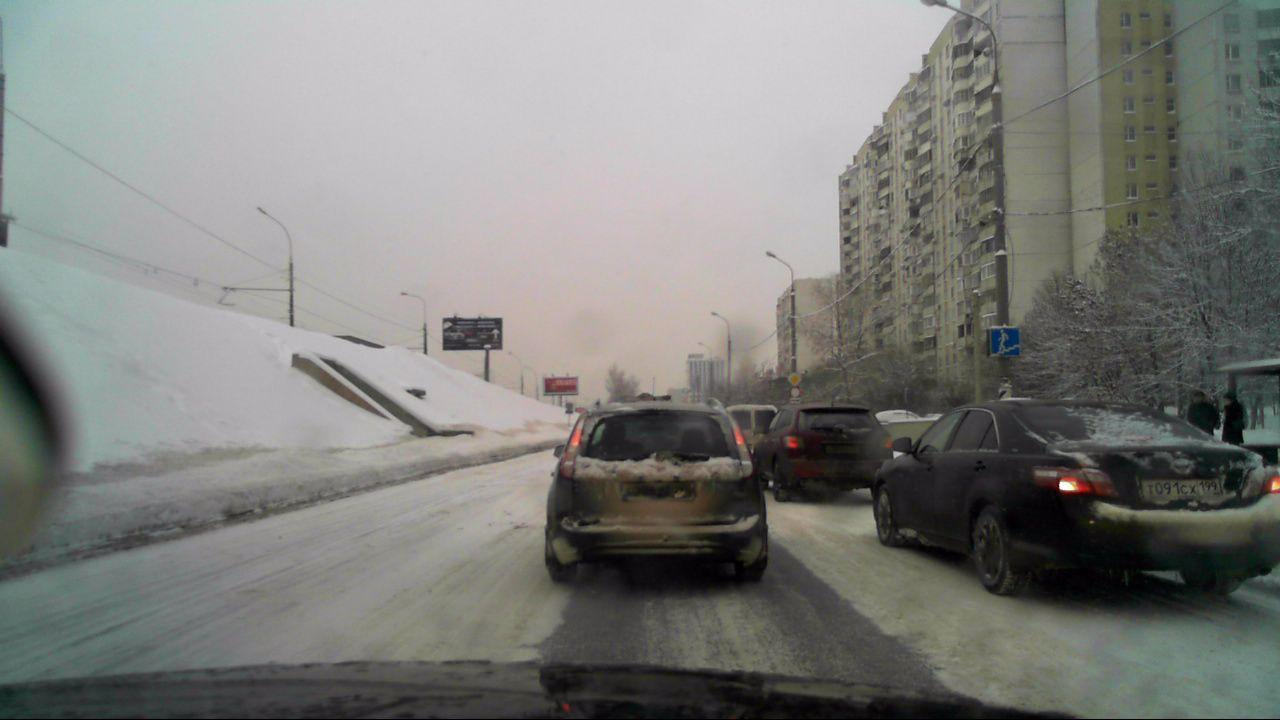2_1: (788, 371, 801, 385)
3_2: (790, 387, 801, 397)
6_6: (988, 325, 1018, 358)
8_3_1: (789, 398, 801, 403)
